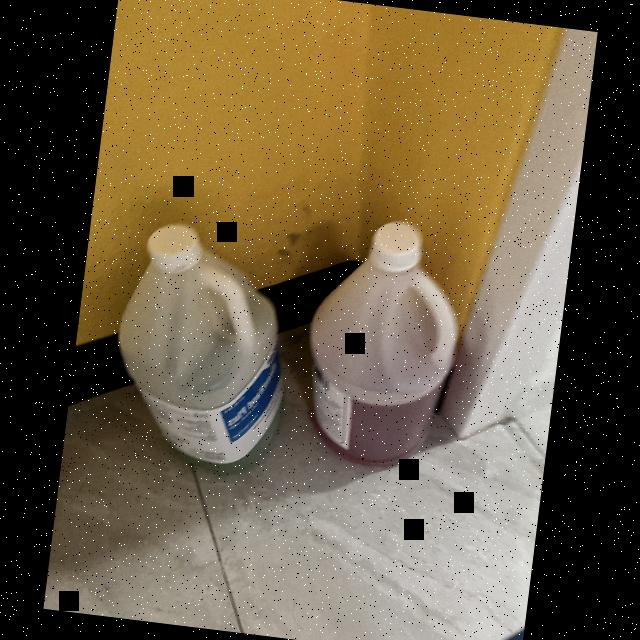chemical_plastic_gallon: (102, 213, 306, 479), (292, 202, 470, 479)
